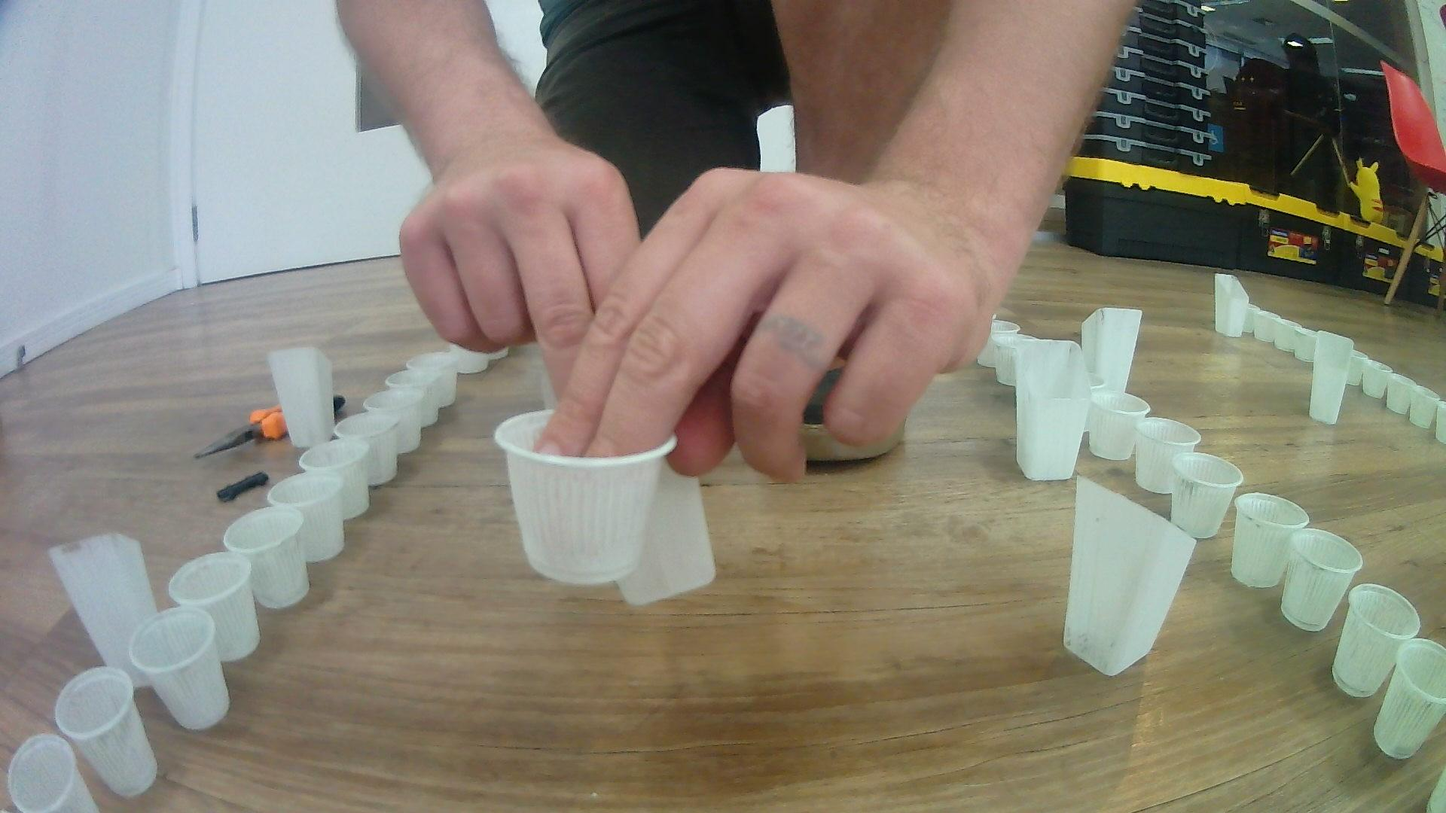erva_daninha: (1064, 473, 1198, 677), (47, 529, 161, 691), (611, 448, 717, 607), (1014, 339, 1092, 481), (268, 347, 336, 449), (1081, 307, 1143, 397), (1308, 330, 1355, 425), (1213, 273, 1251, 338)
planta: (493, 408, 678, 588), (53, 665, 159, 799), (124, 606, 231, 732), (166, 550, 260, 663), (1332, 582, 1421, 698), (222, 505, 310, 609), (1373, 638, 1446, 760), (1280, 528, 1365, 632), (1229, 492, 1310, 589), (6, 733, 101, 813), (267, 473, 346, 564), (1170, 452, 1245, 540), (297, 437, 372, 522), (1133, 417, 1203, 495), (333, 413, 398, 487), (1087, 391, 1152, 461), (362, 389, 423, 455), (385, 371, 440, 428), (406, 353, 457, 410), (977, 320, 1021, 368), (994, 334, 1033, 386), (438, 341, 489, 374), (1409, 385, 1440, 429), (1386, 372, 1417, 414), (1273, 320, 1304, 359), (1362, 360, 1393, 399), (1252, 312, 1283, 349), (1240, 300, 1268, 340), (1292, 326, 1317, 362), (1346, 350, 1369, 387), (1078, 370, 1105, 395), (1434, 400, 1446, 443), (476, 346, 510, 361)
